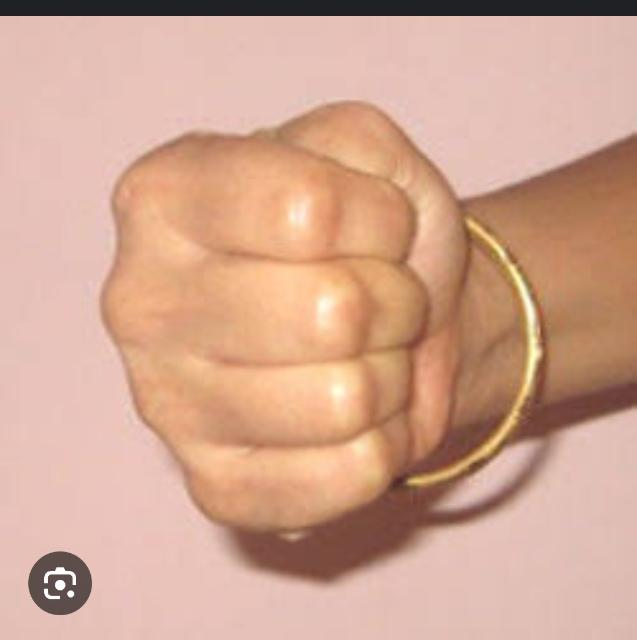mushti: (99, 100, 553, 537)
